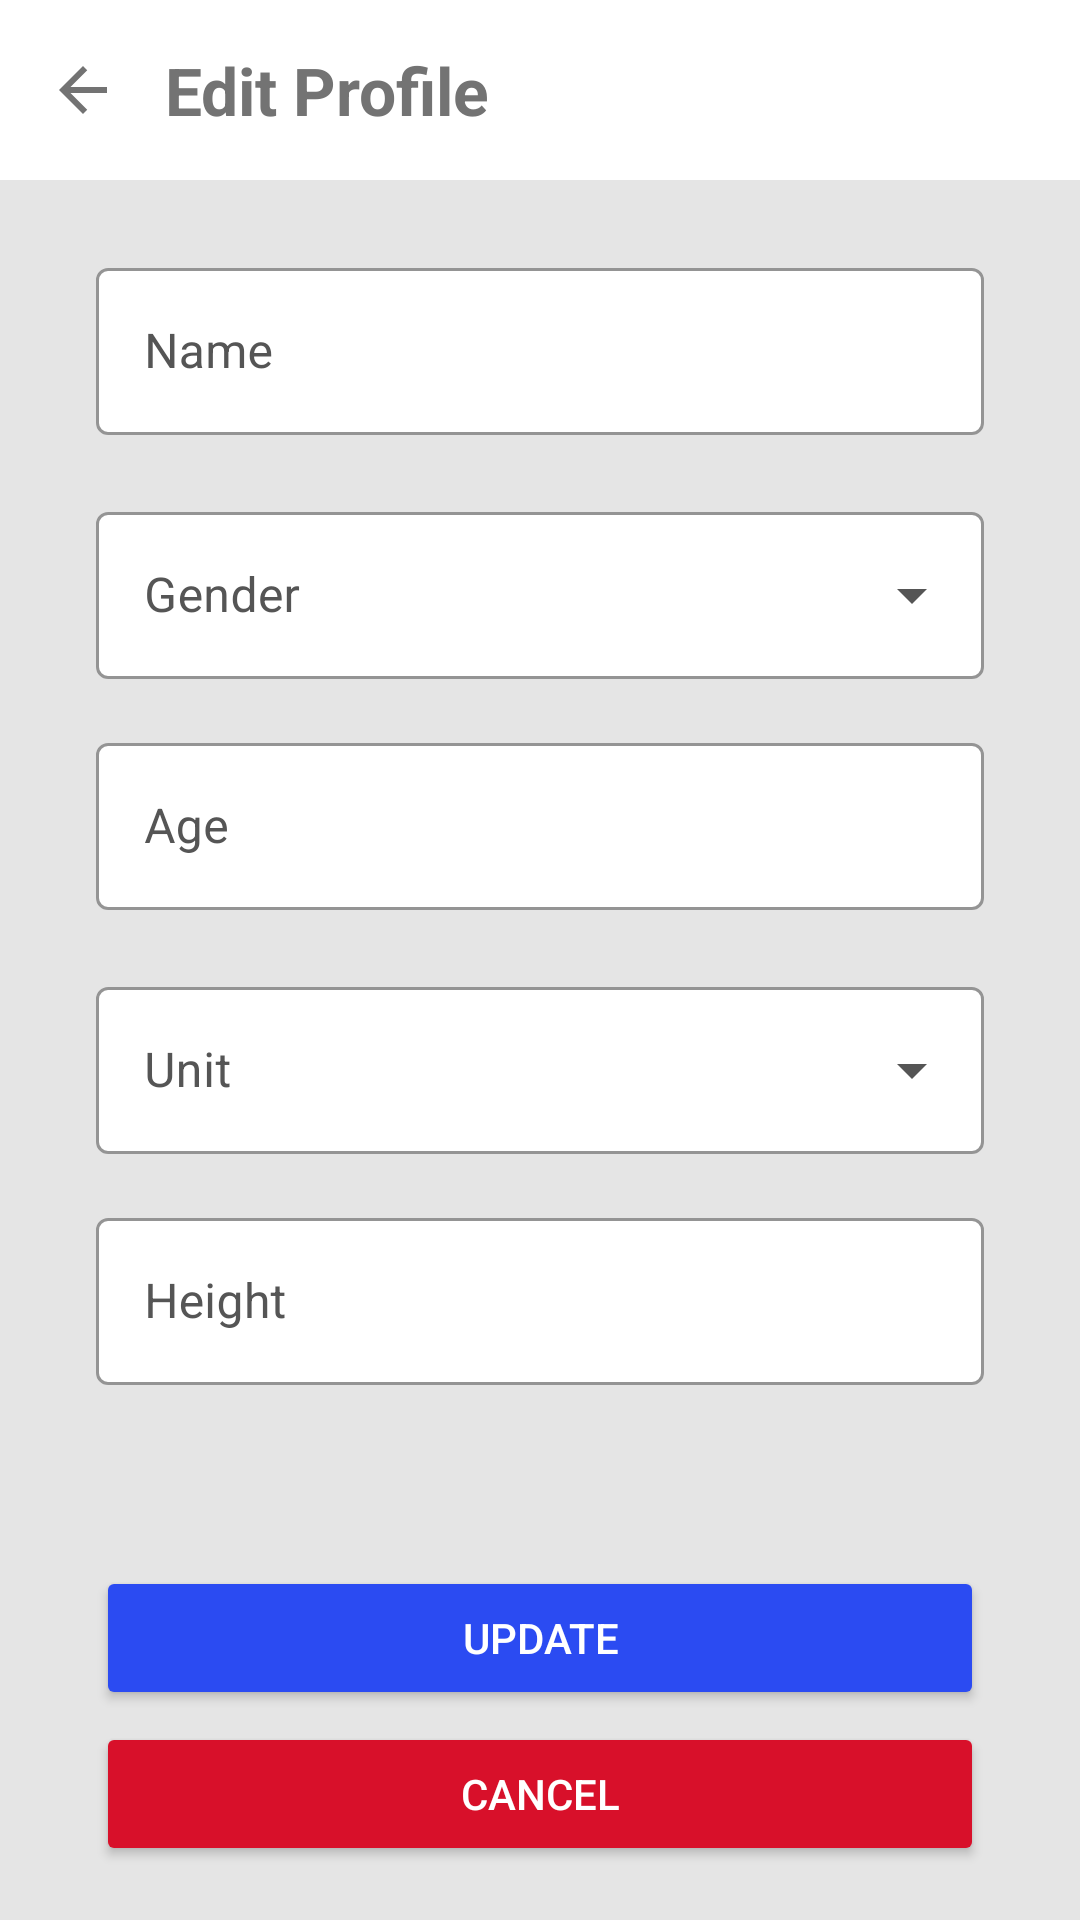

Screen size 1080w x 1920h. Icon name, then its box in pixels as (x1, y1, x2, y2):
Back: (59, 66, 107, 114)
